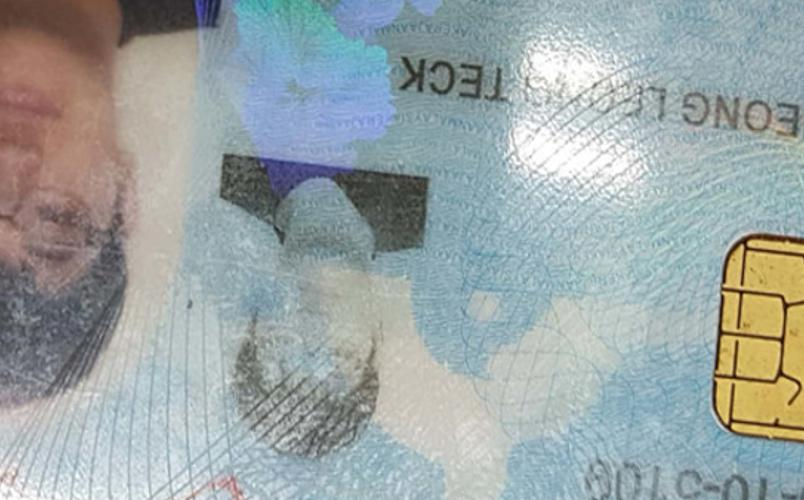hologramB: (237, 1, 392, 155)
